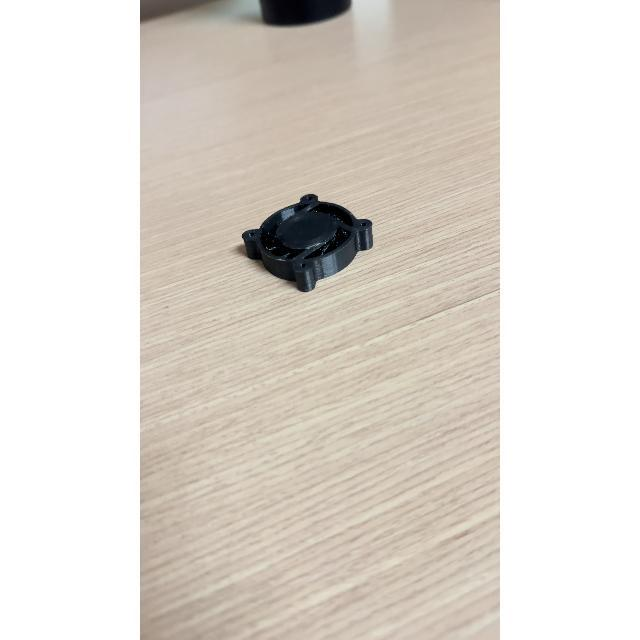Pieza4: (202, 168, 398, 306)
